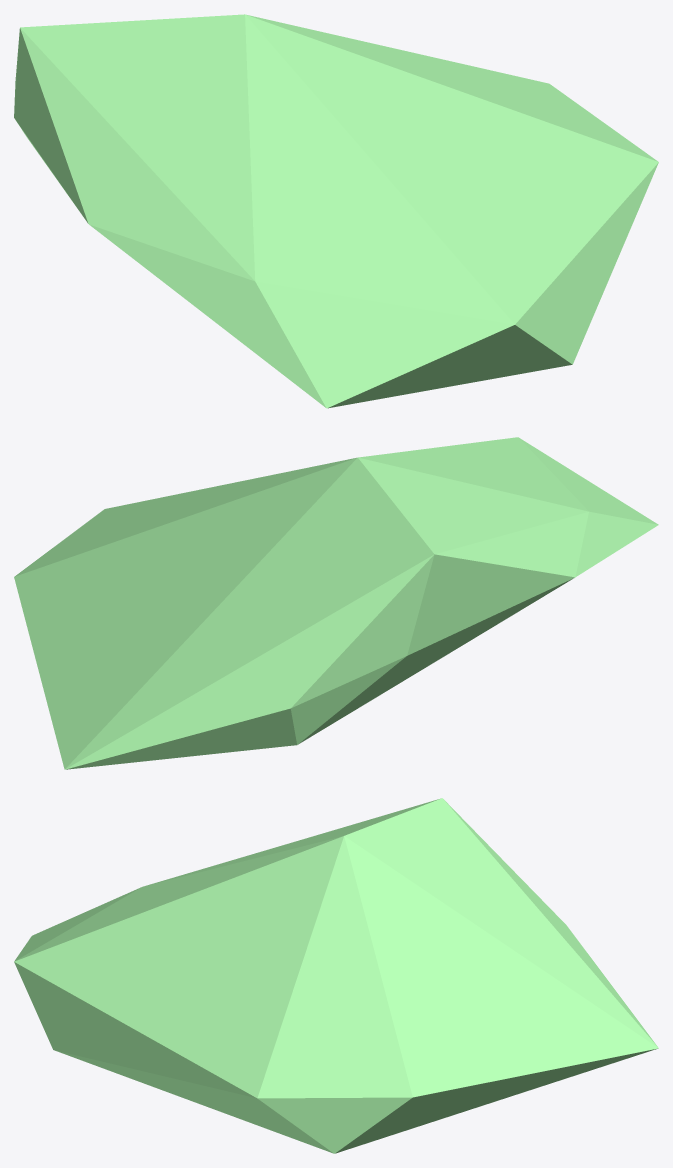
File: UMIRobot_UMIRobot_link_4_convex_coll_3.dae
3 views of the same model, one above another, from view 1: azimuth 30°, elevation 25°; view 2: azimuth 150°, elevation 25°; view 3: azimuth 270°, elevation 25° (orthographic). The views are drawn at different scales.
Parts seen in each view (by area): view 1: node; view 2: node; view 3: node.
Part boxes in pixels (x1,y1,x2,y2): node: [14, 14, 658, 408]; node: [14, 437, 658, 769]; node: [14, 798, 658, 1153].
Size of the model in its own units: 0.0161 by 0.00709 by 0.0219.
